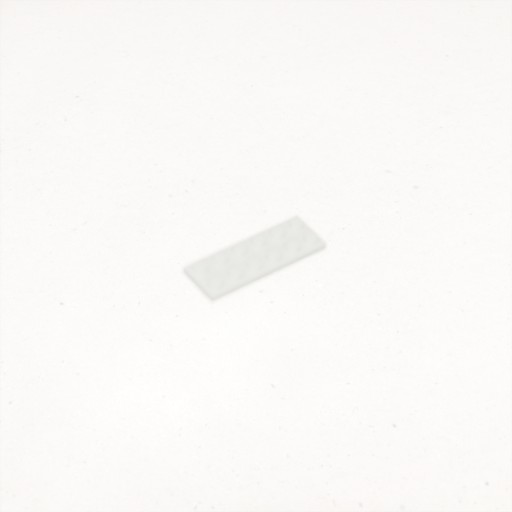lego: (182, 214, 328, 304)
